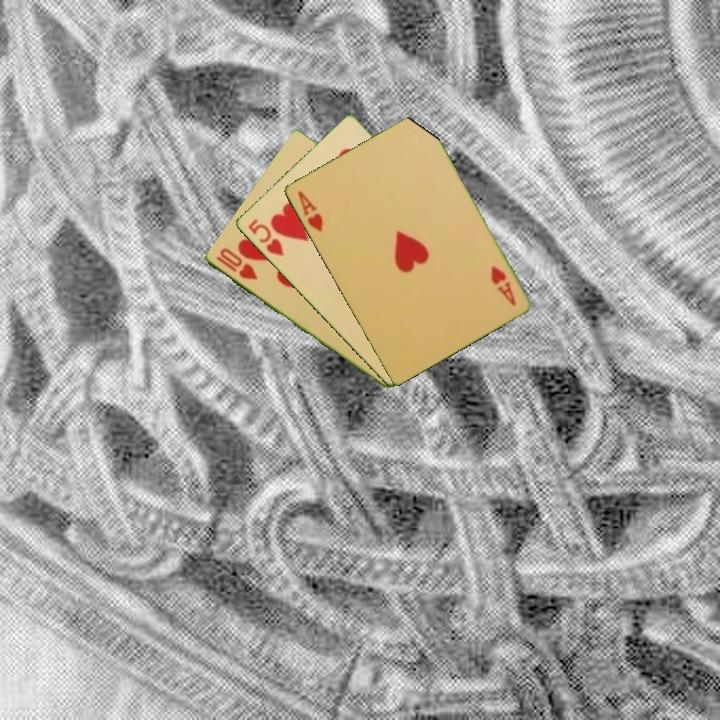10h: (212, 244, 261, 283)
5h: (244, 215, 287, 259)
Ah: (294, 187, 326, 235), (487, 263, 518, 309)
